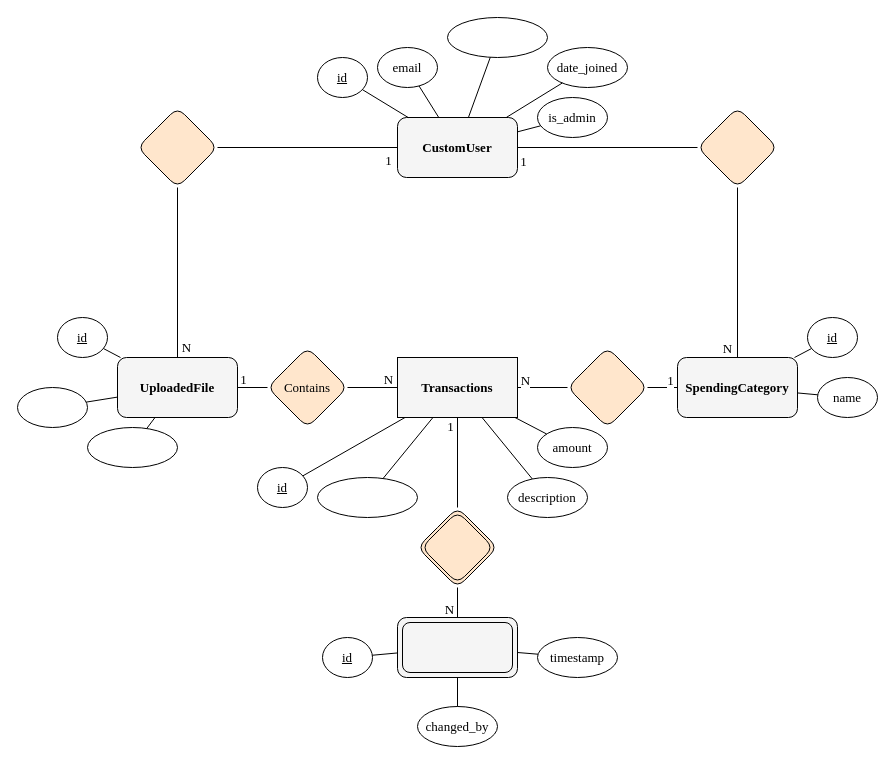
Image size: 895x764. Some labels were removed from this diagram. The shapes that lost their labels are listed below. From the top down, each one's centre as x and y in pixels, then its label:
At point 497,37: "password_hash".
At point 177,147: "Uploads".
At point 737,147: "Manages".
At point 52,407: "filename".
At point 607,387: "Labels".
At point 132,447: "upload_date".
At point 367,497: "transaction_date".
At point 457,547: "Has History".
At point 457,647: "CorrectionLog".
